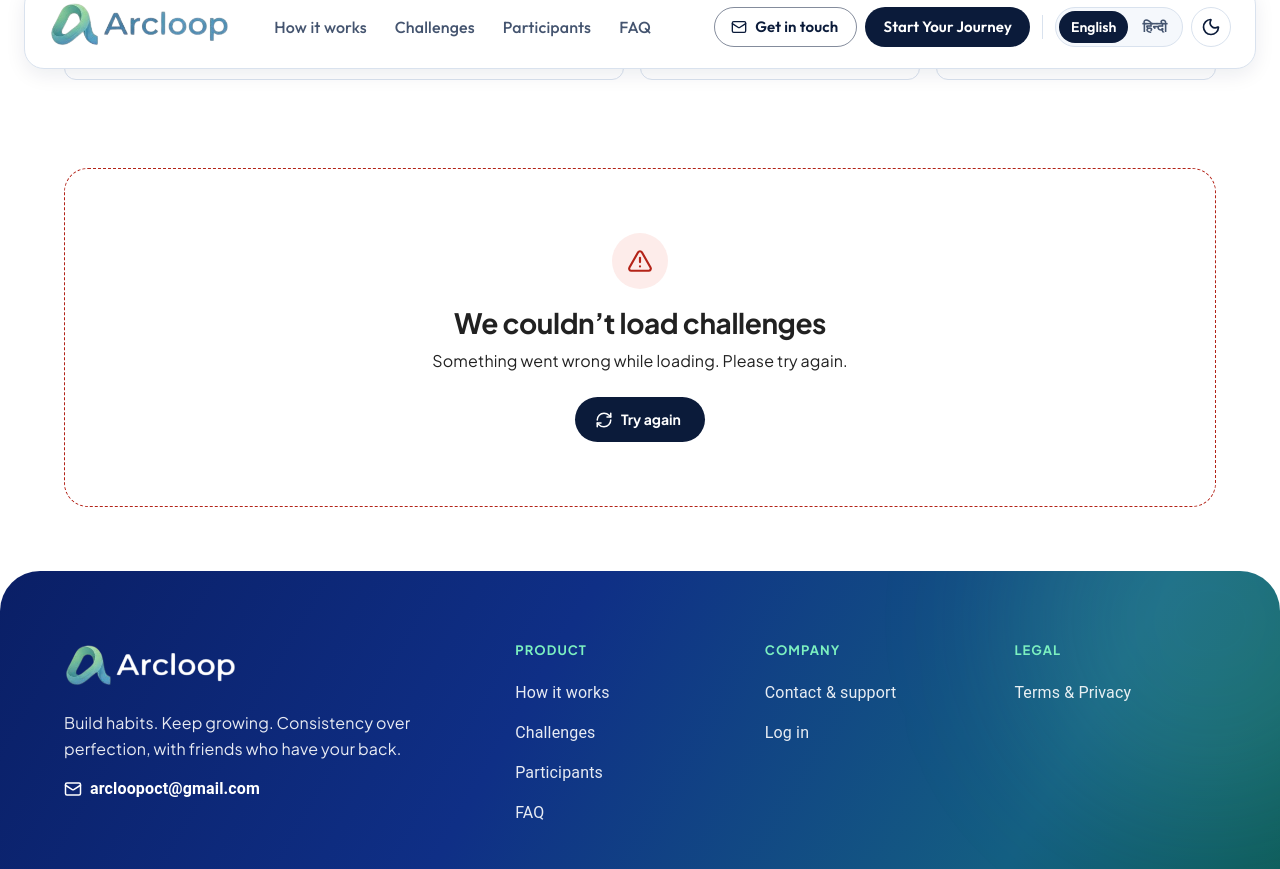
Test: Explore challenges › shows an error state and recovers on retry
The image size is (1280, 869).
(page scrolled)
Expected: the message shows "couldn’t load challenges", [454,305,826,340]
Click the button "Try again" at x=640, y=420, box [575,397,705,442]
(page scrolled)
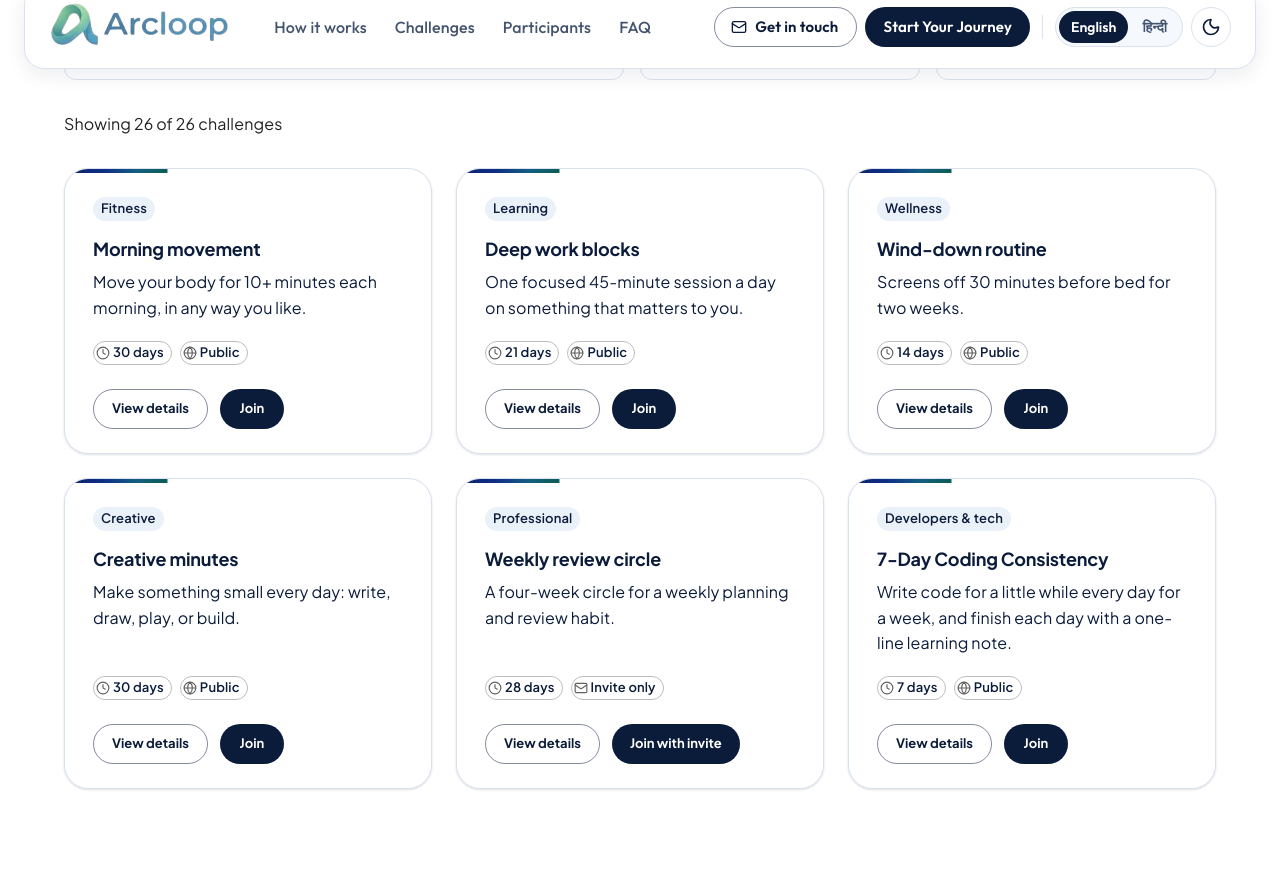
Expected: the heading "Morning movement" is shown, [93,237,260,260]
